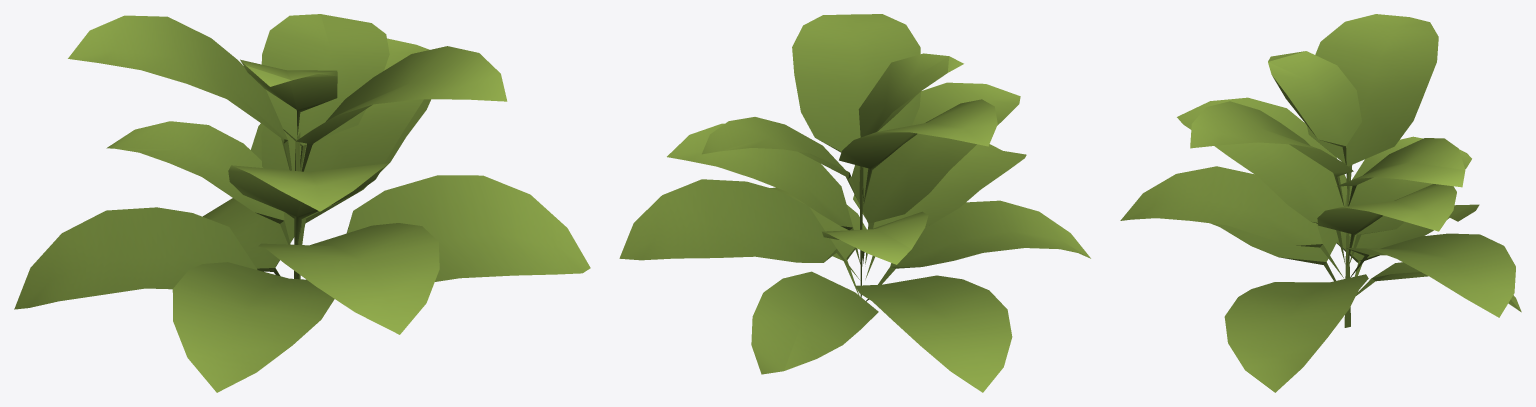
Rendered from Spring_Plant_02.glb.
The picture shows the model from 3 angles, left to right: view 1: azimuth 30°, elevation 25°; view 2: azimuth 150°, elevation 25°; view 3: azimuth 270°, elevation 25°; orthographic projection. The views are drawn at different scales.
Visible parts, largest first — view 1: Spring_Plant_02_LOD0; view 2: Spring_Plant_02_LOD0; view 3: Spring_Plant_02_LOD0.
Boxes of the visible parts, x1,y1,x2,y2 form: Spring_Plant_02_LOD0: [14, 14, 590, 392]; Spring_Plant_02_LOD0: [619, 14, 1090, 392]; Spring_Plant_02_LOD0: [1120, 14, 1521, 392].
Size of what is drawn, in the model's own units: 0.8784 by 0.5518 by 0.8161.
Materials: 1 (1 with a texture image).
